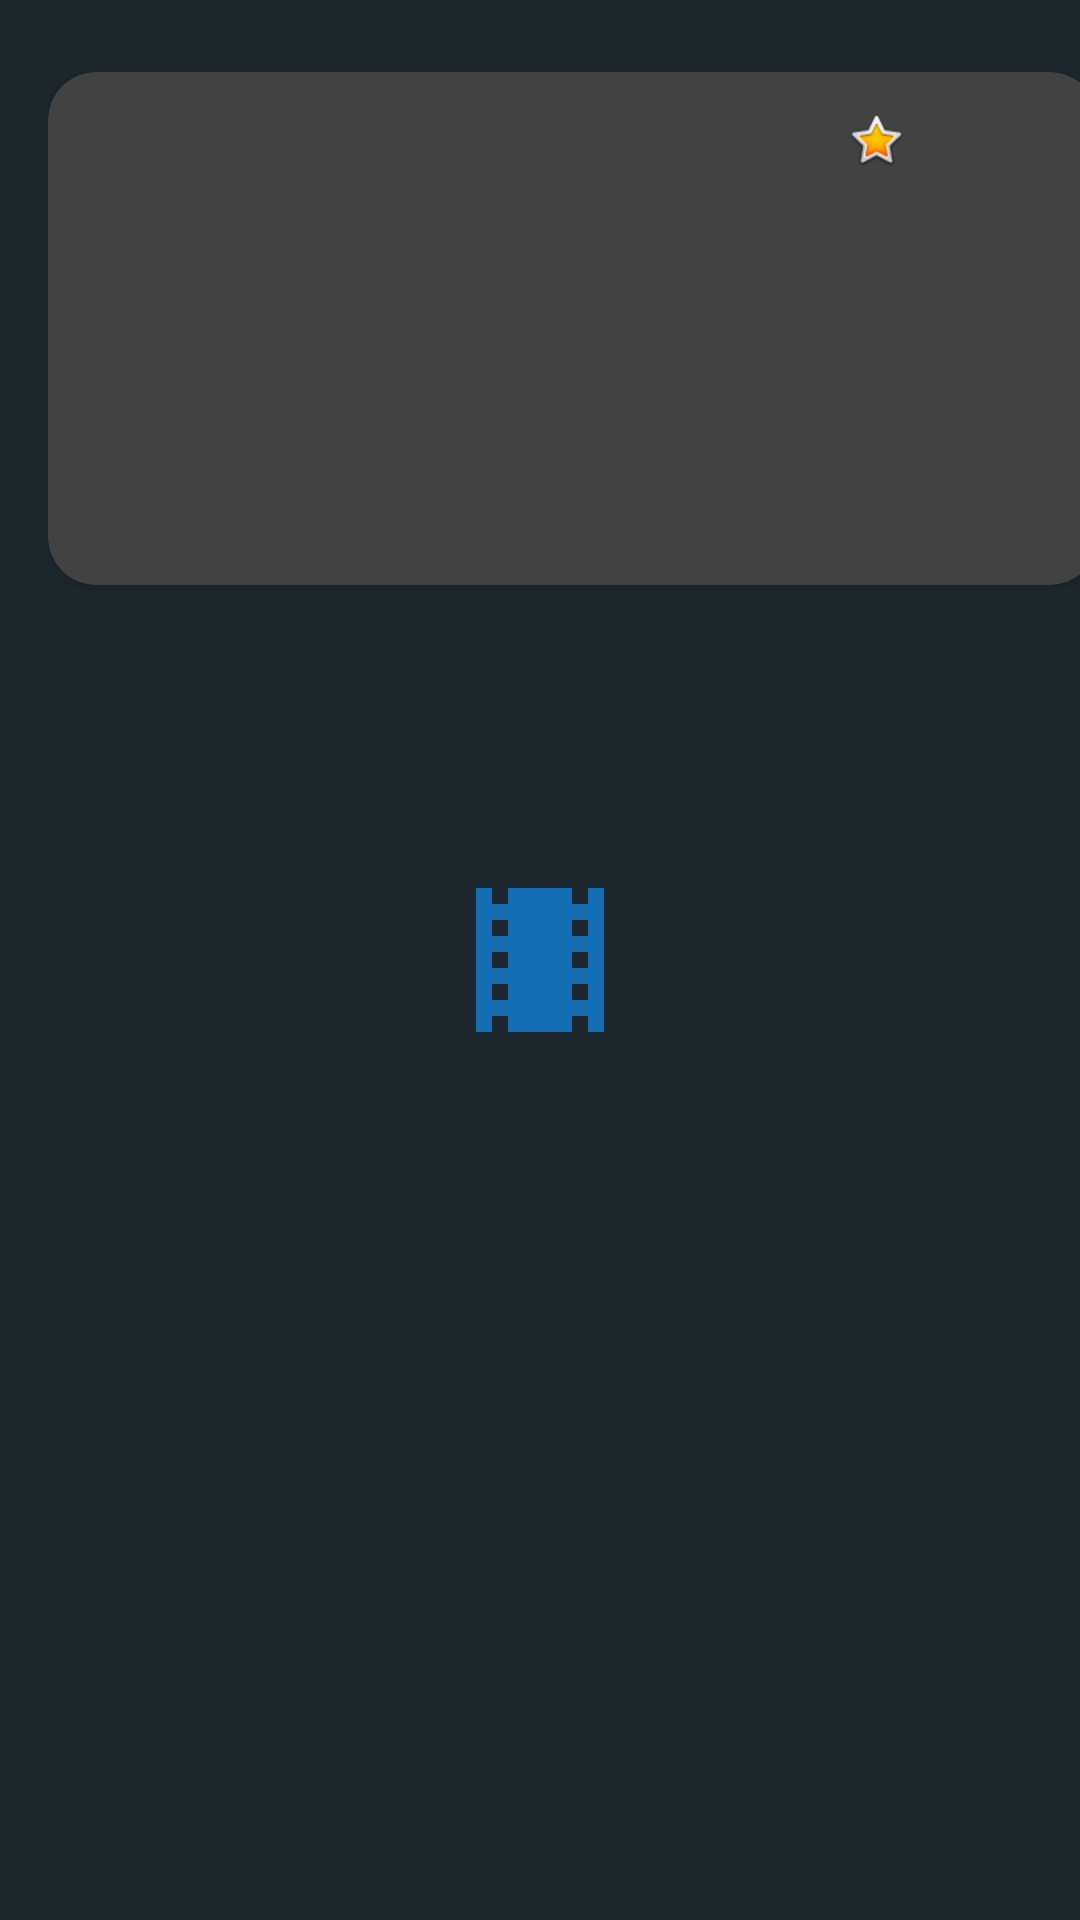

Icon click points for this 1080px×1920px phone screenshot, format point (x, y):
star on: point (876, 139)
